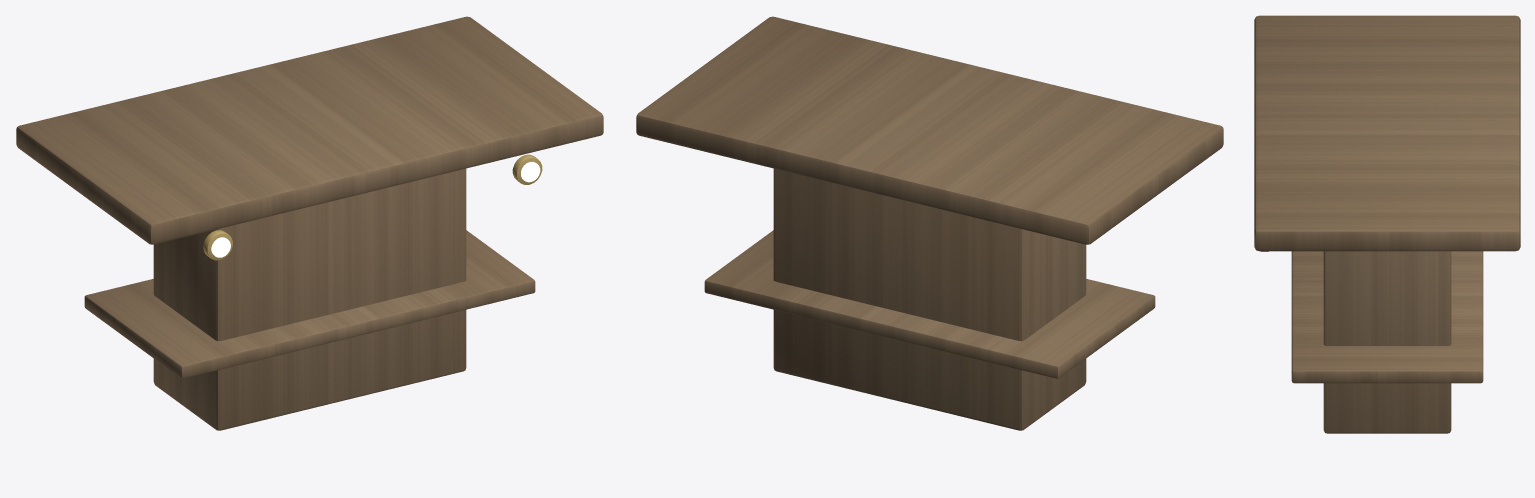
Rendered from pf_display_feature_table_t3.glb.
3 renders of one model, left to right at view 1: azimuth 30°, elevation 25°; view 2: azimuth 150°, elevation 25°; view 3: azimuth 270°, elevation 25°, orthographic. The views are drawn at different scales.
Visible parts, largest first — view 1: Feature_Table_Top, Feature_Table_Plinth, Lower_Display_Deck; view 2: Feature_Table_Top, Feature_Table_Plinth, Lower_Display_Deck; view 3: Feature_Table_Top, Feature_Table_Plinth, Lower_Display_Deck.
Part boxes in pixels (x1,y1,x2,y2): Feature_Table_Top: (16, 16, 603, 244); Feature_Table_Plinth: (153, 168, 466, 430); Lower_Display_Deck: (84, 230, 535, 378); Feature_Table_Top: (636, 16, 1223, 244); Feature_Table_Plinth: (773, 168, 1086, 430); Lower_Display_Deck: (704, 230, 1155, 378); Feature_Table_Top: (1254, 15, 1520, 251); Feature_Table_Plinth: (1323, 251, 1451, 433); Lower_Display_Deck: (1291, 251, 1483, 383).
Bounding box in the file's own units: 1.58 × 0.86 × 0.82.
4 materials, 1 textured.
